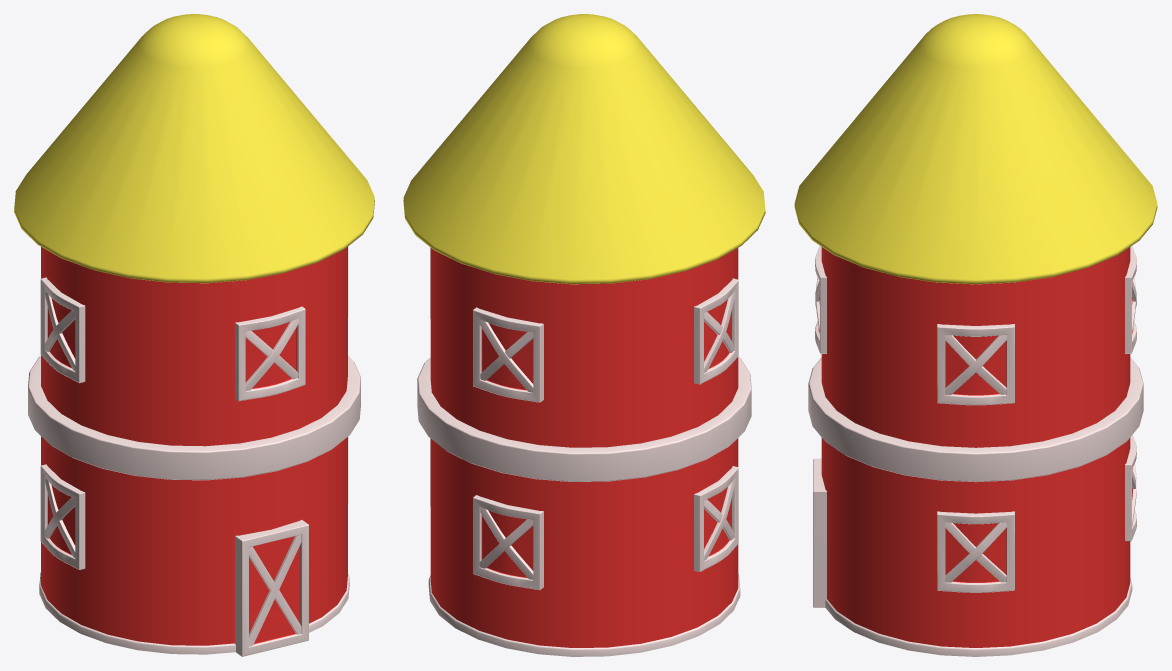
The model's file is Farm_9_Barn_2.glb.
3 renders of one model, left to right at view 1: azimuth 30°, elevation 25°; view 2: azimuth 150°, elevation 25°; view 3: azimuth 270°, elevation 25°, orthographic.
Parts seen in each view (by area): view 1: Farm_9_Barn_2; view 2: Farm_9_Barn_2; view 3: Farm_9_Barn_2.
Boxes of the visible parts, x1,y1,x2,y2 form: Farm_9_Barn_2: (14, 14, 374, 656); Farm_9_Barn_2: (403, 14, 765, 656); Farm_9_Barn_2: (794, 14, 1157, 656).
Bounding box in the file's own units: 6.02 × 10.41 × 6.02.
1 material, 1 textured.
